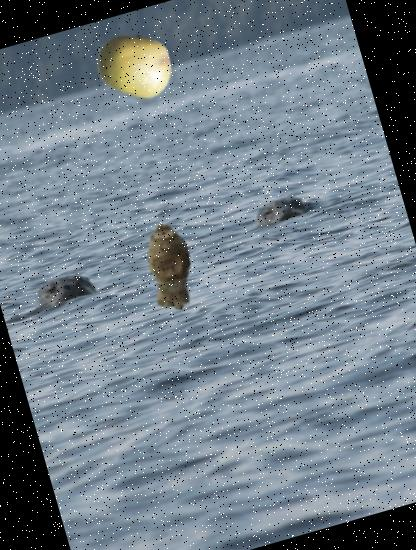Ginger: (114, 210, 227, 323)
Pomelo: (86, 17, 183, 113)
